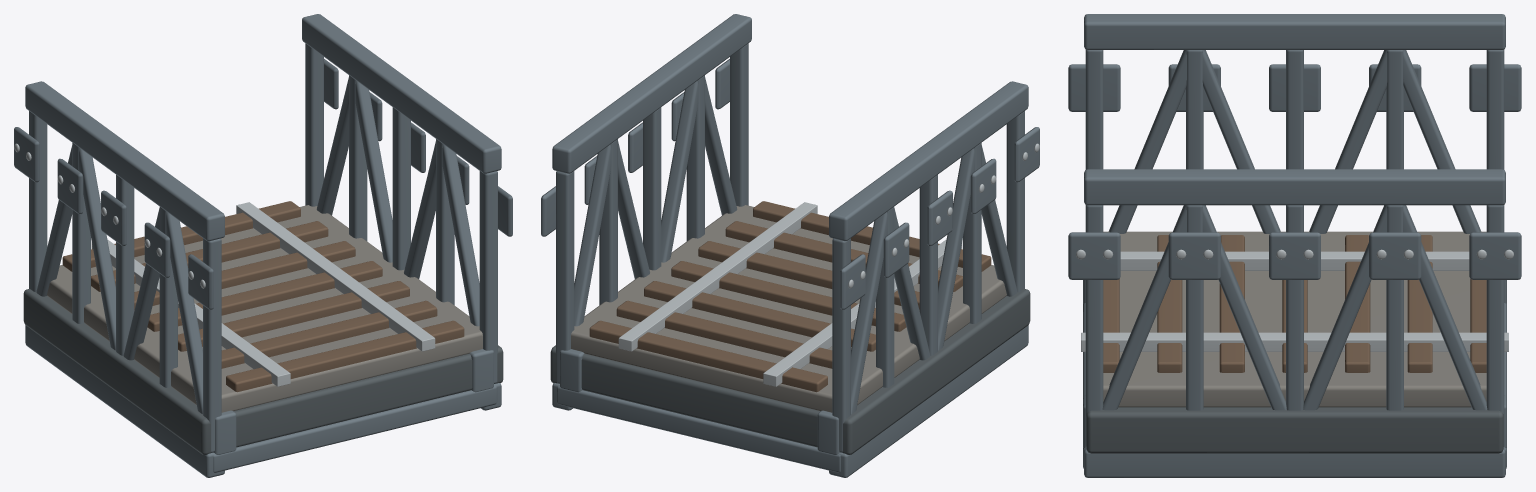
Rendered from railway_bridge.glb.
The picture shows the model from 3 angles, left to right: view 1: azimuth 30°, elevation 25°; view 2: azimuth 150°, elevation 25°; view 3: azimuth 270°, elevation 25°; orthographic projection. The views are drawn at different scales.
Visible parts, largest first — view 1: Bridge_Bridge, Bridge_Bridge.004, Bridge_Bridge.002, Bridge_Bridge.001, Bridge_Bridge.003; view 2: Bridge_Bridge, Bridge_Bridge.004, Bridge_Bridge.002, Bridge_Bridge.001, Bridge_Bridge.003; view 3: Bridge_Bridge, Bridge_Bridge.002, Bridge_Bridge.001, Bridge_Bridge.004, Bridge_Bridge.003.
Part boxes in pixels (box(x1,y1,x2,y2)): Bridge_Bridge: box(14, 14, 512, 477); Bridge_Bridge.004: box(62, 201, 464, 392); Bridge_Bridge.002: box(47, 205, 482, 412); Bridge_Bridge.001: box(23, 289, 503, 454); Bridge_Bridge.003: box(14, 143, 435, 386); Bridge_Bridge: box(541, 14, 1039, 477); Bridge_Bridge.004: box(589, 201, 991, 392); Bridge_Bridge.002: box(571, 205, 1006, 412); Bridge_Bridge.001: box(550, 289, 1030, 454); Bridge_Bridge.003: box(618, 143, 1039, 386); Bridge_Bridge: box(1068, 14, 1521, 477); Bridge_Bridge.002: box(1103, 231, 1486, 407); Bridge_Bridge.001: box(1086, 407, 1503, 453); Bridge_Bridge.004: box(1103, 235, 1486, 372); Bridge_Bridge.003: box(1076, 249, 1513, 351).
Size of the model in its own units: 1.98 by 1.59 by 2.17.
